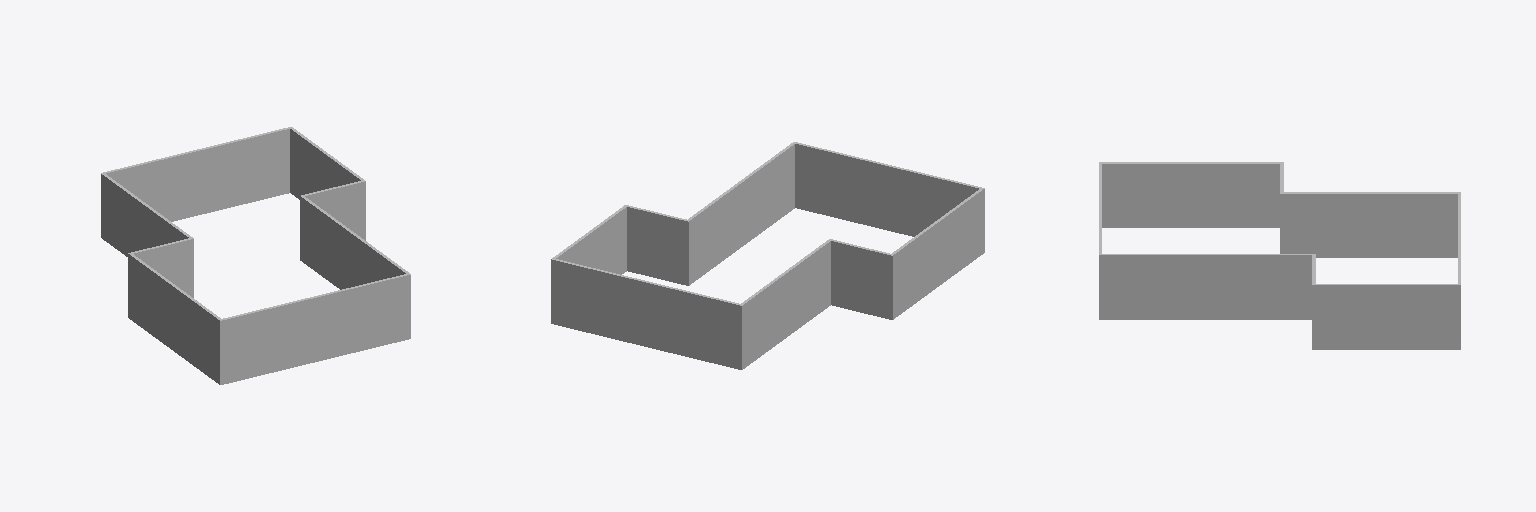
The model's file is walls.obj.
3 renders of one model, left to right at view 1: azimuth 30°, elevation 25°; view 2: azimuth 150°, elevation 25°; view 3: azimuth 270°, elevation 25°, orthographic.
Visible parts, largest first — view 1: Mesh1 Model; view 2: Mesh1 Model; view 3: Mesh1 Model.
Boxes of the visible parts, x1=… form: Mesh1 Model: x1=101, y1=127, x2=410, y2=384; Mesh1 Model: x1=551, y1=142, x2=984, y2=369; Mesh1 Model: x1=1099, y1=162, x2=1460, y2=349.
Size of the model in its own units: 8.2 by 2 by 10.2.